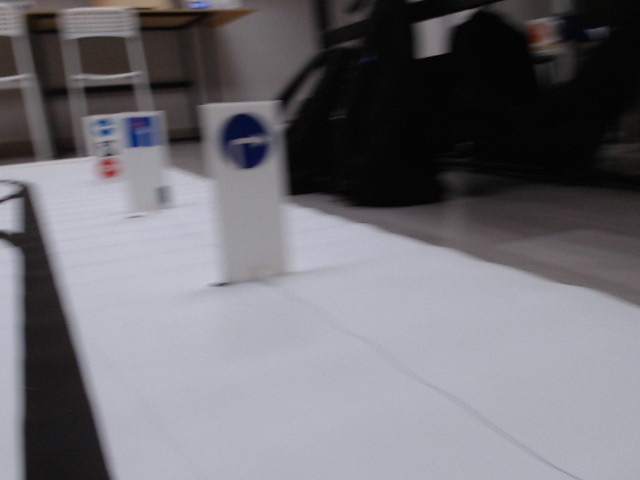Right: (217, 112, 273, 168)
priority_movement: (123, 115, 162, 150)
